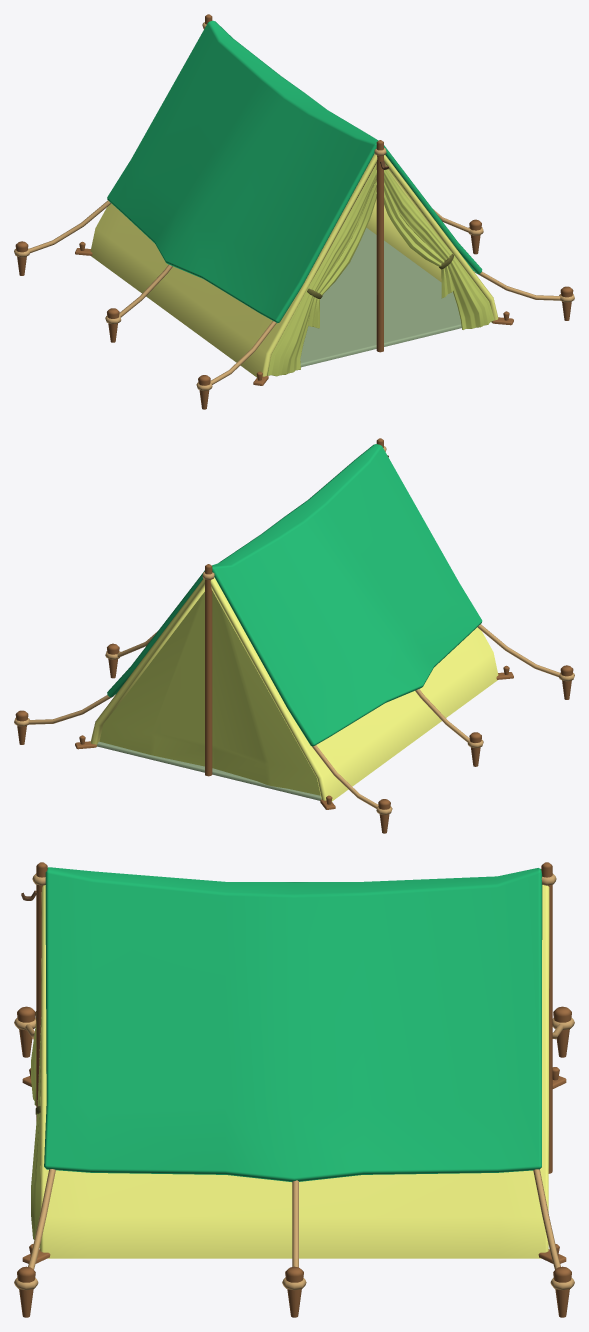
File: tent _green_normal.fbx
3 views of the same model, one above another, from view 1: azimuth 30°, elevation 25°; view 2: azimuth 150°, elevation 25°; view 3: azimuth 270°, elevation 25° (orthographic). The views are drawn at different scales.
Parts seen in each view (by area): view 1: tent_green_normal; view 2: tent_green_normal; view 3: tent_green_normal.
Boxes of the visible parts, bbox=[...] form: tent_green_normal: bbox=[14, 14, 574, 409]; tent_green_normal: bbox=[14, 438, 574, 833]; tent_green_normal: bbox=[14, 862, 574, 1317].
Size of the model in its own units: 277 by 154 by 243.
